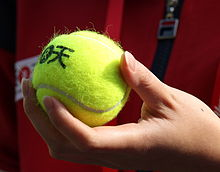tennis_ball: (34, 29, 132, 124)
